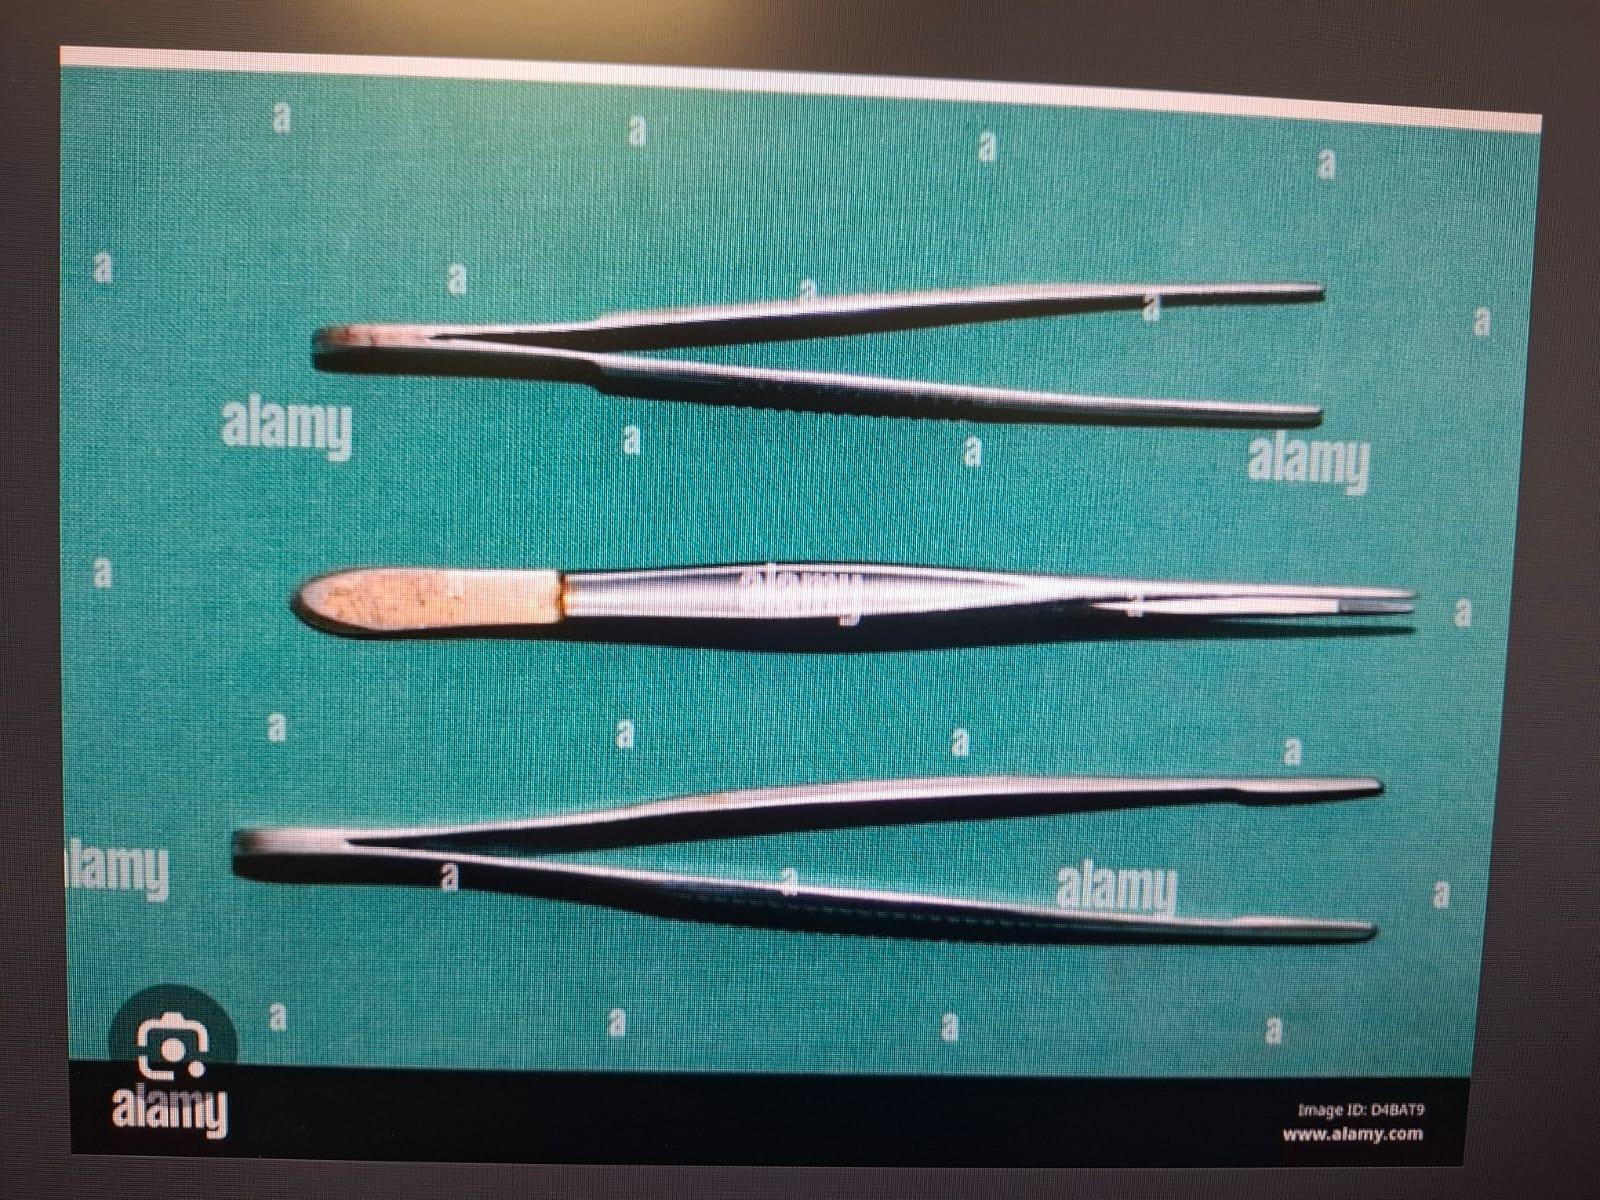Disscting Forceps: (212, 746, 1414, 978), (286, 250, 1354, 456), (280, 512, 1450, 676)
